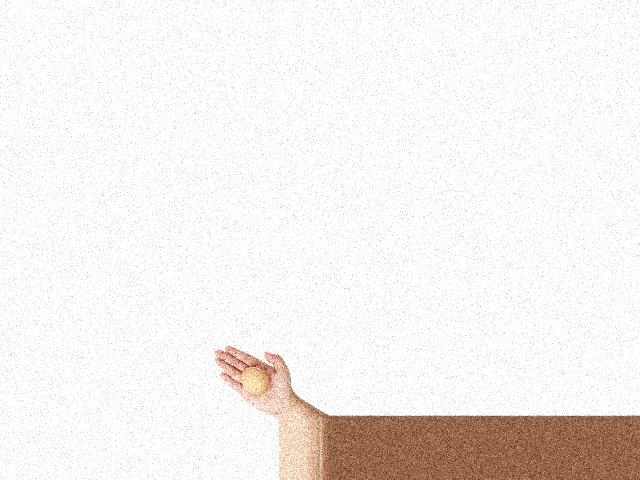egg: (242, 367, 270, 394)
